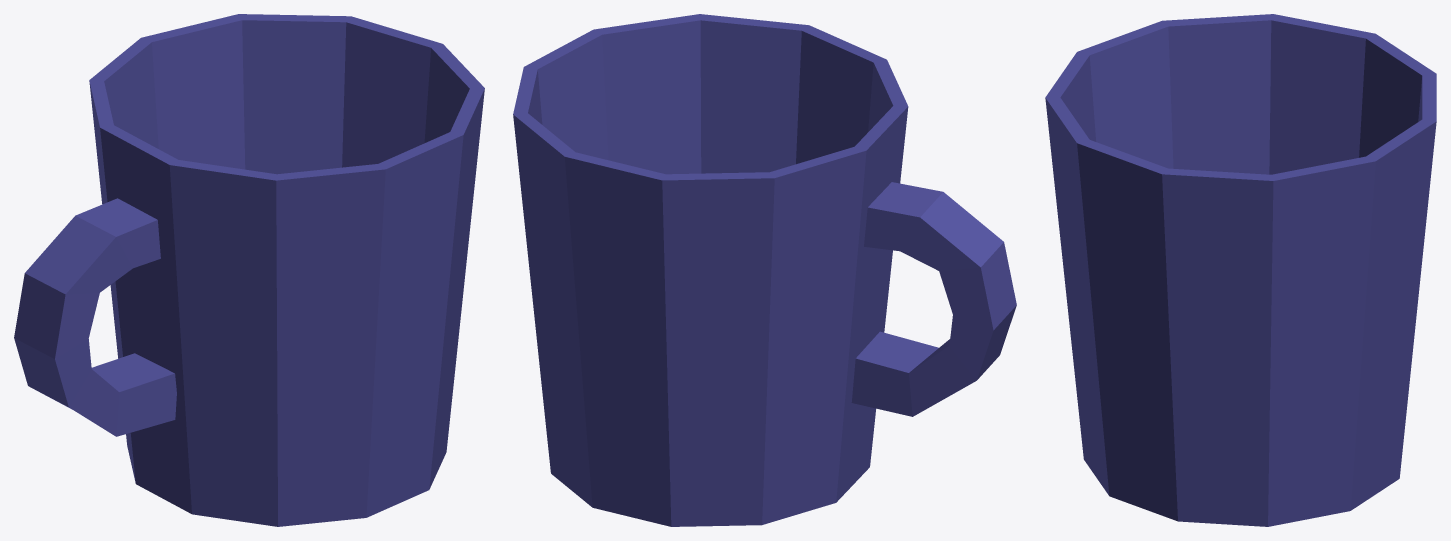
File: MUGnoCoffeeeee.fbx
3 views of the same model, side by side, from view 1: azimuth 30°, elevation 25°; view 2: azimuth 150°, elevation 25°; view 3: azimuth 270°, elevation 25° (orthographic).
Parts seen in each view (by area): view 1: Cylinder.001; view 2: Cylinder.001; view 3: Cylinder.001.
Part boxes in pixels (x1,y1,x2,y2): Cylinder.001: (14, 14, 484, 526); Cylinder.001: (513, 14, 1016, 526); Cylinder.001: (1045, 14, 1436, 526).
Bounding box in the file's own units: 14.43 × 11.12 × 10.89.
